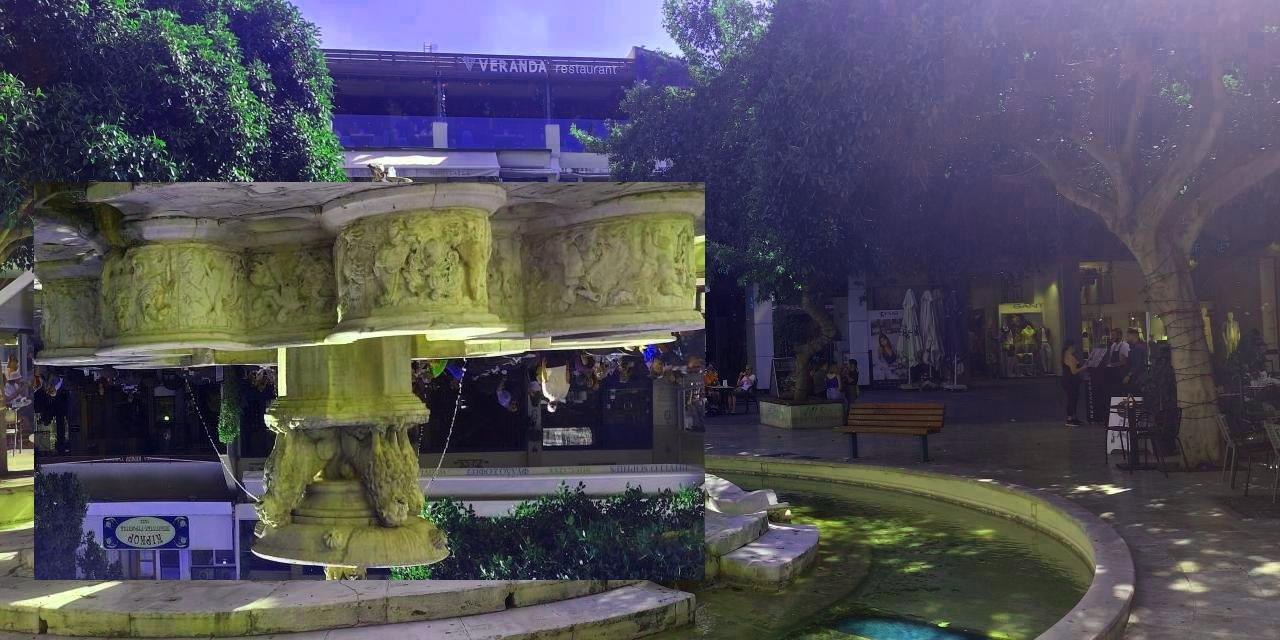Liontaria: (35, 183, 706, 581)
